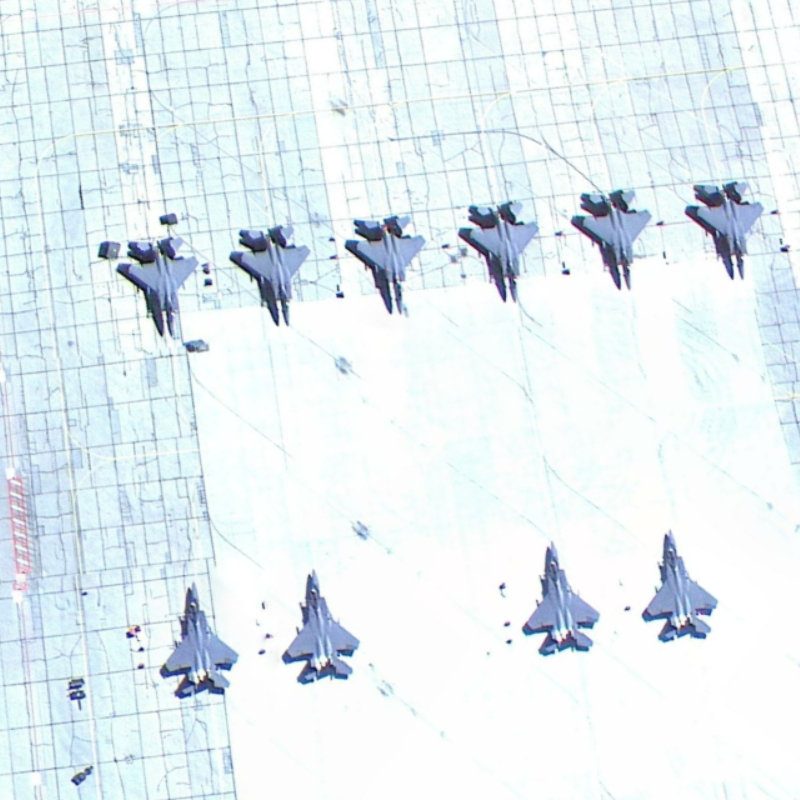A13: (513, 531, 610, 656), (152, 570, 245, 698), (277, 568, 366, 691), (682, 172, 777, 287), (636, 521, 723, 646), (117, 229, 210, 341), (570, 180, 661, 293), (231, 218, 321, 332), (457, 191, 547, 305), (339, 209, 433, 318)
